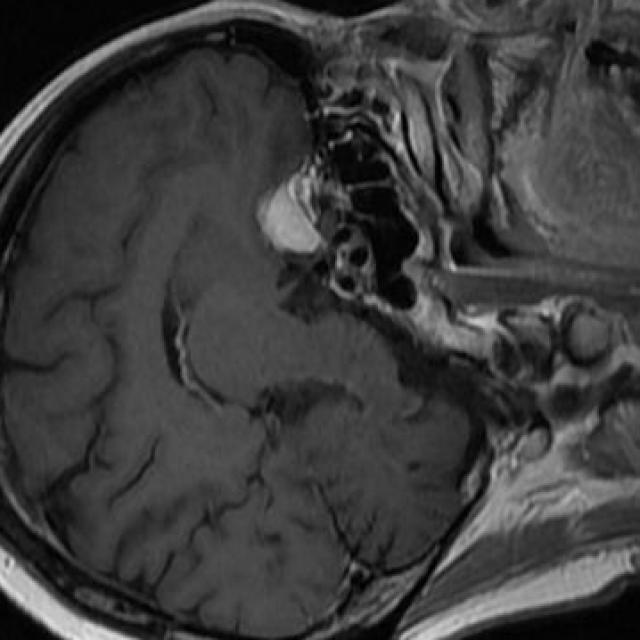meningioma: (262, 173, 321, 255)
